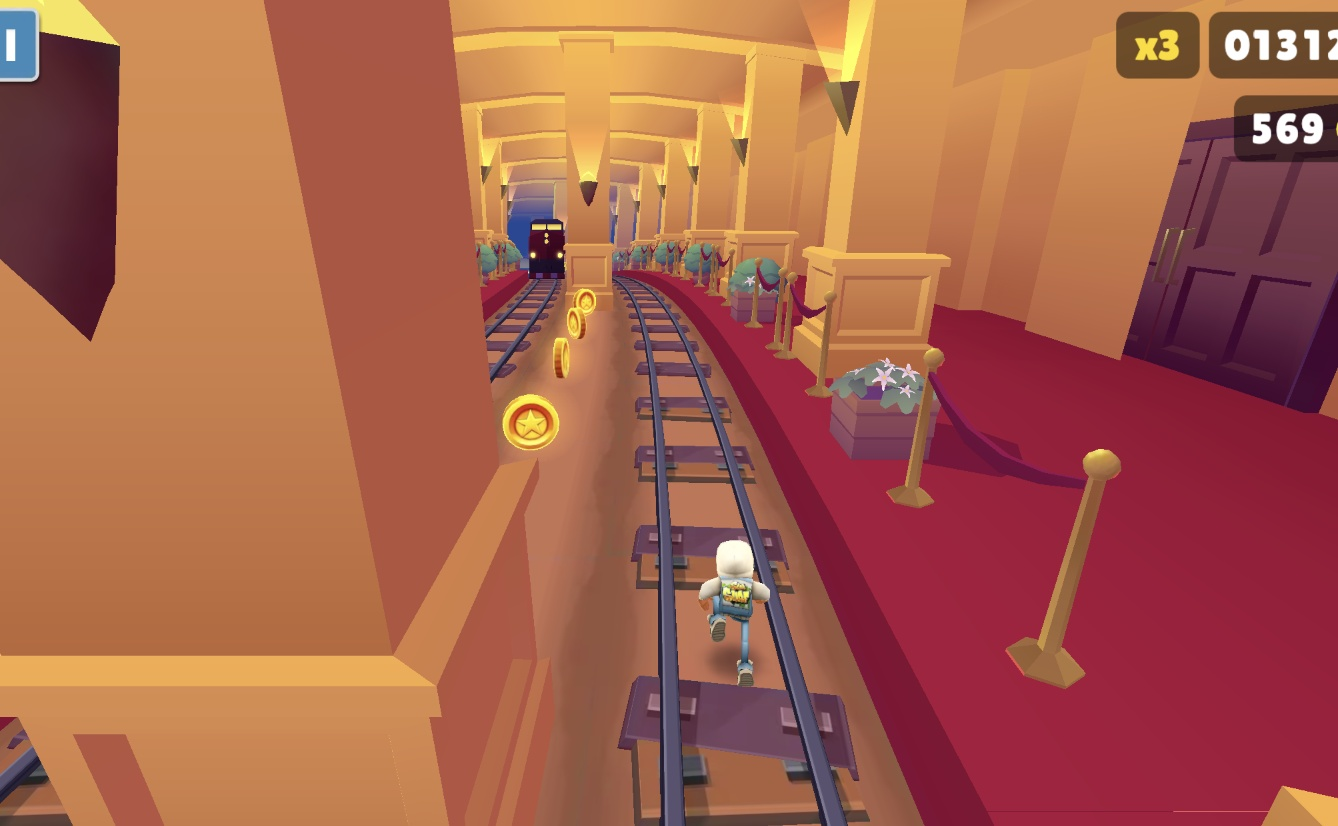pillar: (0, 0, 527, 826), (559, 0, 617, 309)
train: (527, 217, 567, 289)
